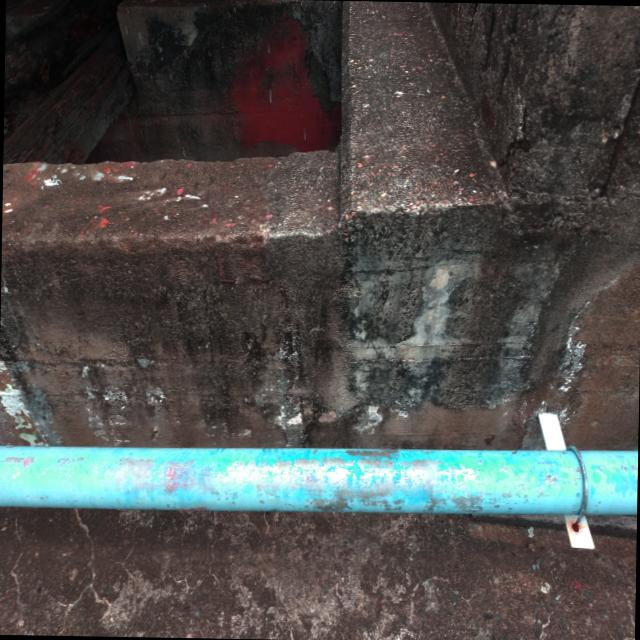gas: (0, 447, 638, 516)
